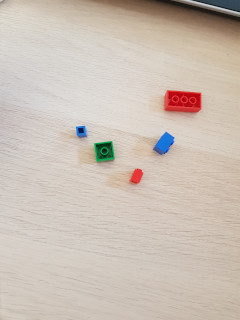1x1 blue: (75, 125, 87, 138)
1x2 red: (131, 168, 142, 185)
2x2 blue: (152, 133, 175, 154)
2x2 green: (93, 140, 115, 163)
2x4 red: (165, 89, 203, 114)
